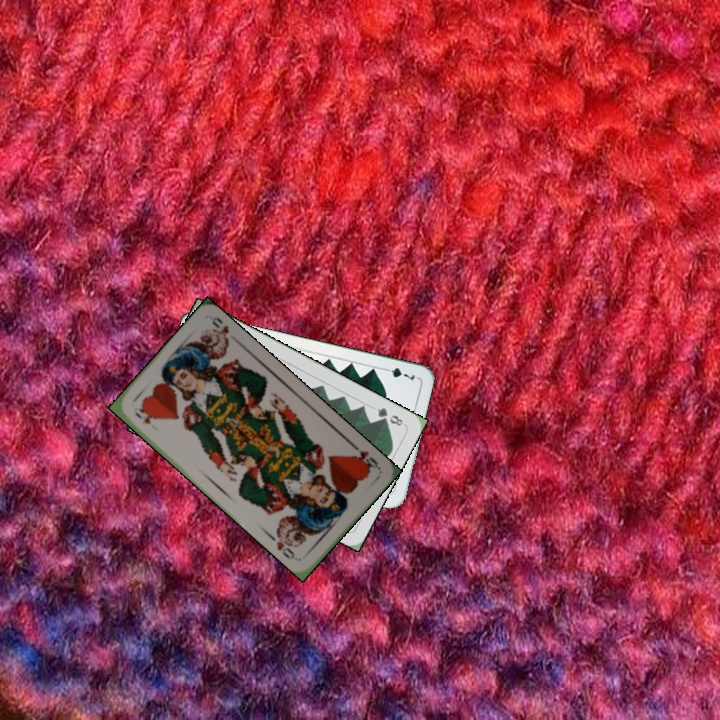G7: (378, 363, 417, 384)
G8: (373, 403, 406, 429)
HO: (348, 440, 382, 474), (131, 405, 154, 427)
